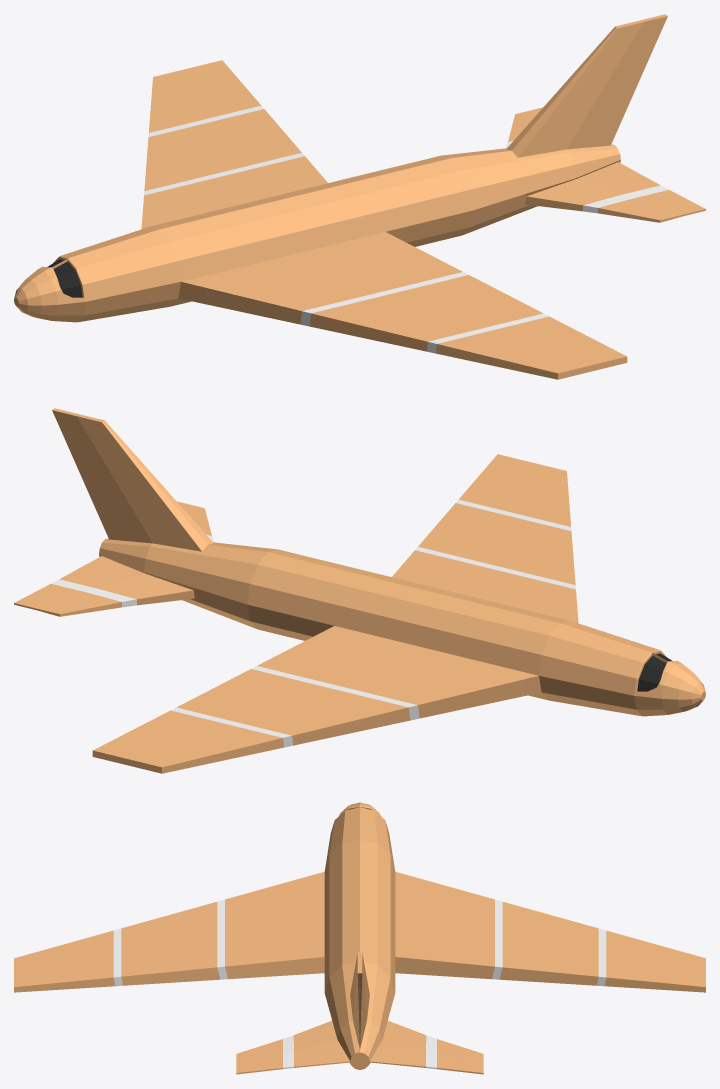
The model's file is Air Plane.fbx.
3 views of the same model, one above another, from view 1: azimuth 30°, elevation 25°; view 2: azimuth 150°, elevation 25°; view 3: azimuth 270°, elevation 25° (orthographic). The views are drawn at different scales.
Parts seen in each view (by area): view 1: Air Plane; view 2: Air Plane; view 3: Air Plane.
Part boxes in pixels (x1,y1,x2,y2): Air Plane: [14, 14, 705, 379]; Air Plane: [14, 408, 705, 773]; Air Plane: [14, 802, 705, 1074].
Bounding box in the file's own units: 0.3321 × 0.0807 × 0.3582.
